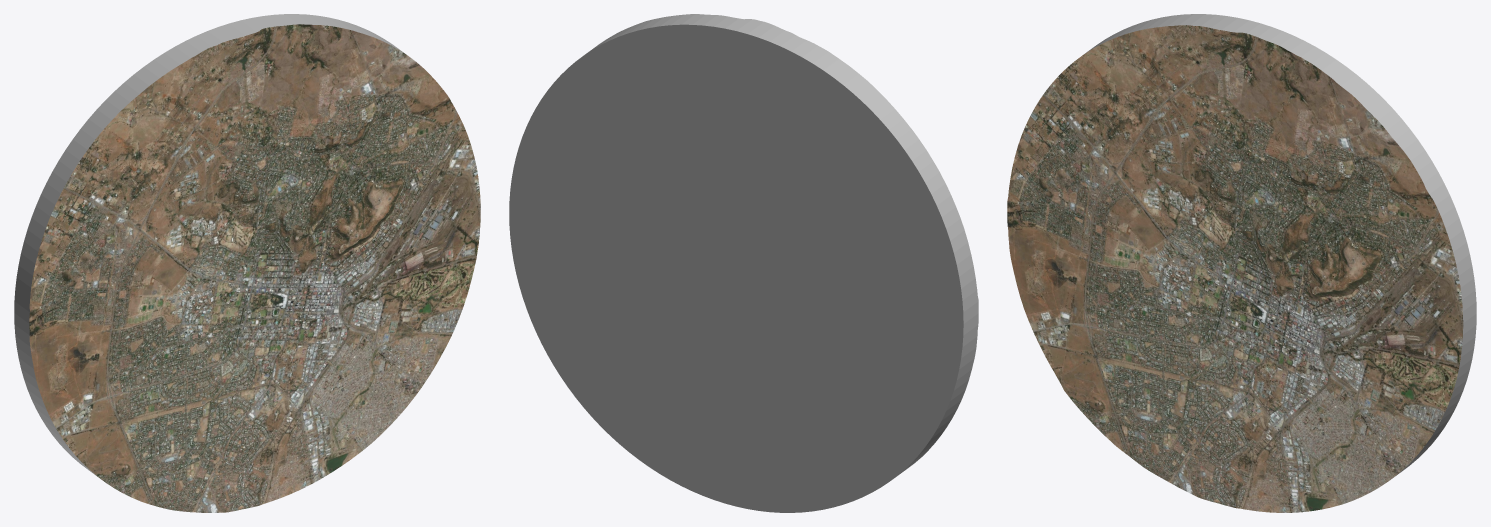
Rendered from bloemfontein.glb.
The picture shows the model from 3 angles, left to right: view 1: azimuth 30°, elevation 25°; view 2: azimuth 150°, elevation 25°; view 3: azimuth 330°, elevation 25°; orthographic projection.
Bounding box in the file's own units: 200 × 200 × 14.08.
2 materials, 1 textured.
